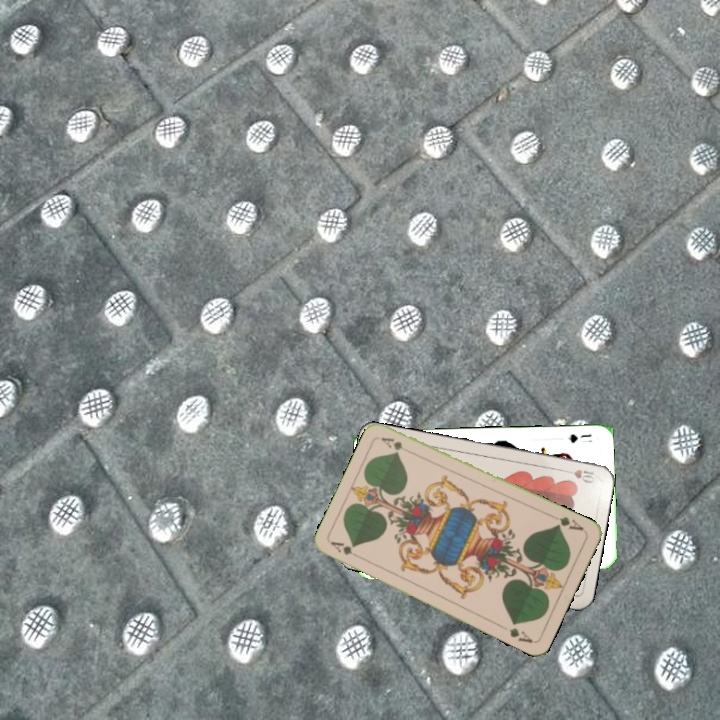GA: (327, 538, 365, 562), (552, 512, 586, 533)
GU: (564, 430, 594, 445)
H10: (559, 465, 597, 485)
